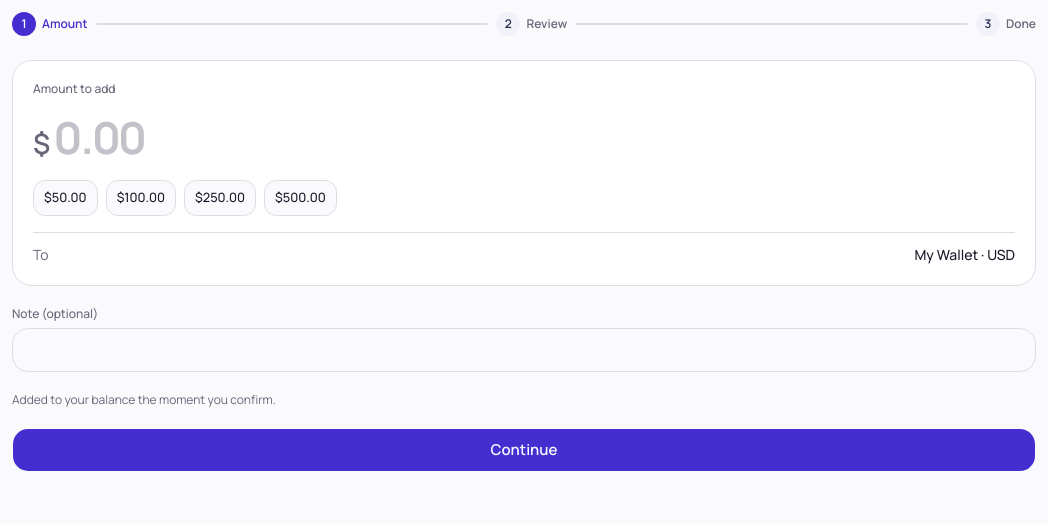
Test case: MoneyRequestWizard › rejects a bad amount on step 1 and never leaves it
The image size is (1048, 524).
Type "0" into the field labelled "Amount to add".
click(535, 137); type("0")  # box [54,113,1015,161]
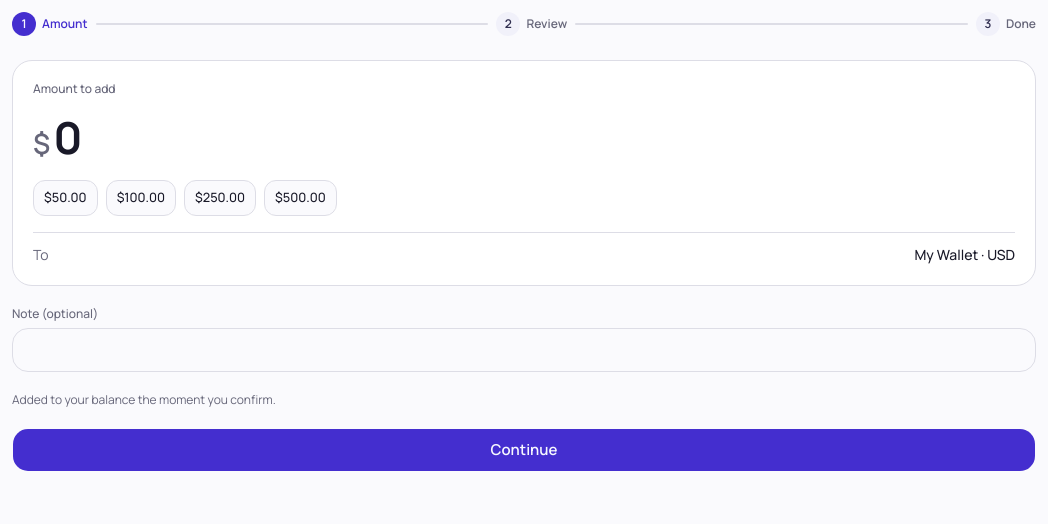
Click the button "Continue".
click(524, 450)  # box [12,428,1036,472]
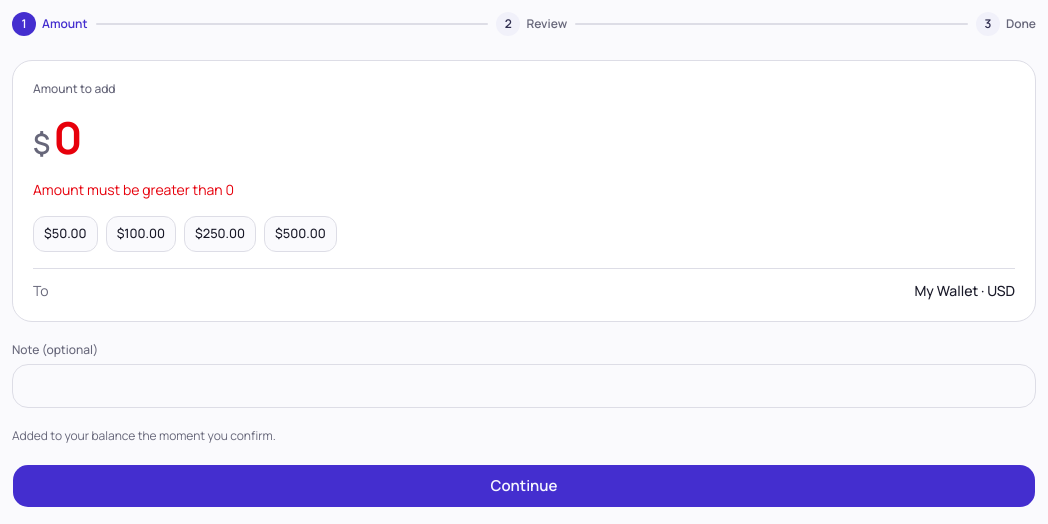
Check: the text "Amount must be greater than 0" is shown, box [33,180,234,199]
